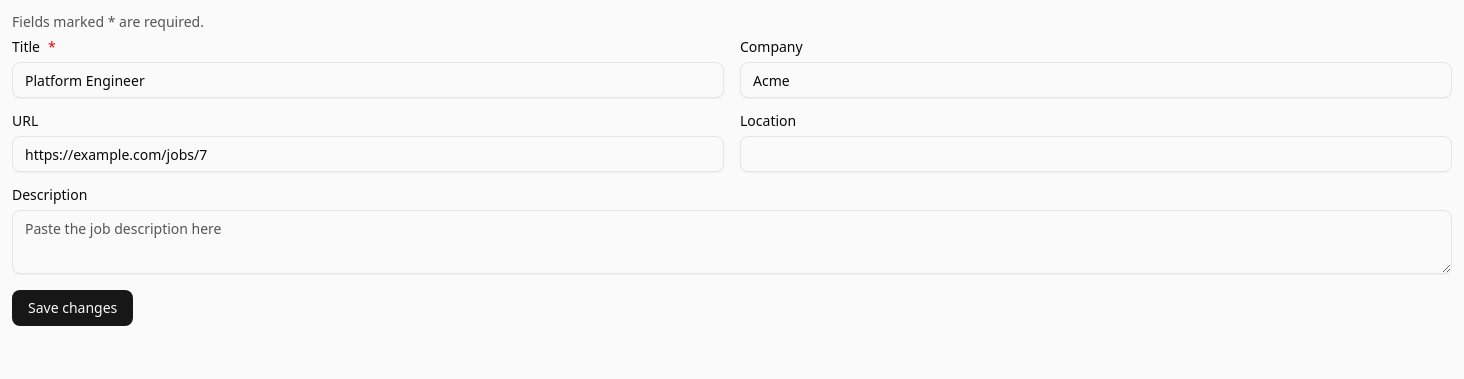
Test case: JobForm › shows the detail of a 404 when the job is gone
The width and height of the screenshot is (1464, 379).
Step 1. Click the button "Save changes" → (73, 308), box x1=12 y1=290 x2=133 y2=326
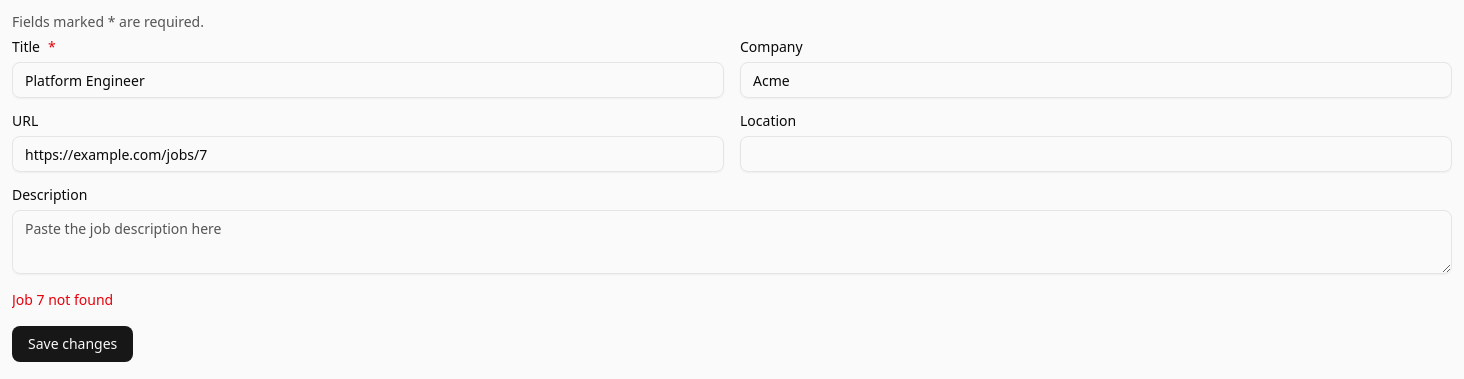
Expected: the message reads "Job 7 not found", x1=12 y1=290 x2=113 y2=309
